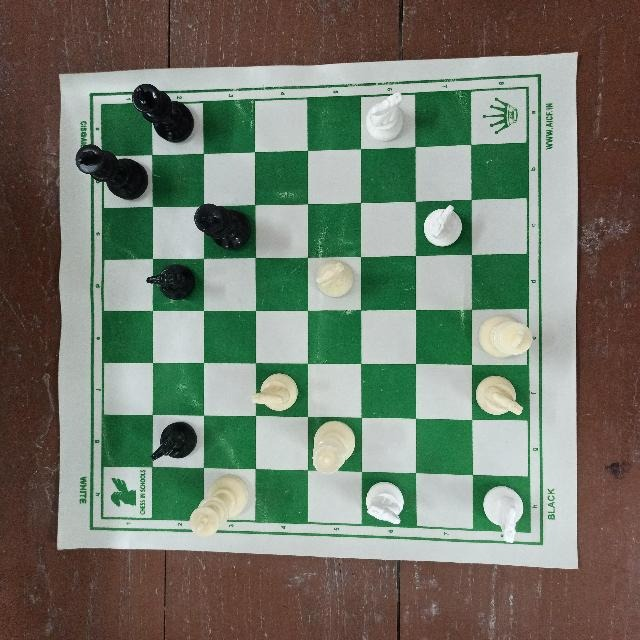black-king: (70, 143, 147, 205), (130, 79, 200, 147), (194, 196, 252, 254)
black-knight: (148, 416, 200, 471), (147, 261, 195, 303)
white-king: (181, 472, 252, 543), (479, 313, 537, 361)
white-knight: (470, 370, 535, 426), (479, 483, 531, 543), (360, 472, 412, 531), (310, 253, 361, 308), (248, 371, 304, 421), (365, 82, 409, 143), (417, 203, 466, 251)
white-queen: (308, 415, 356, 476)
